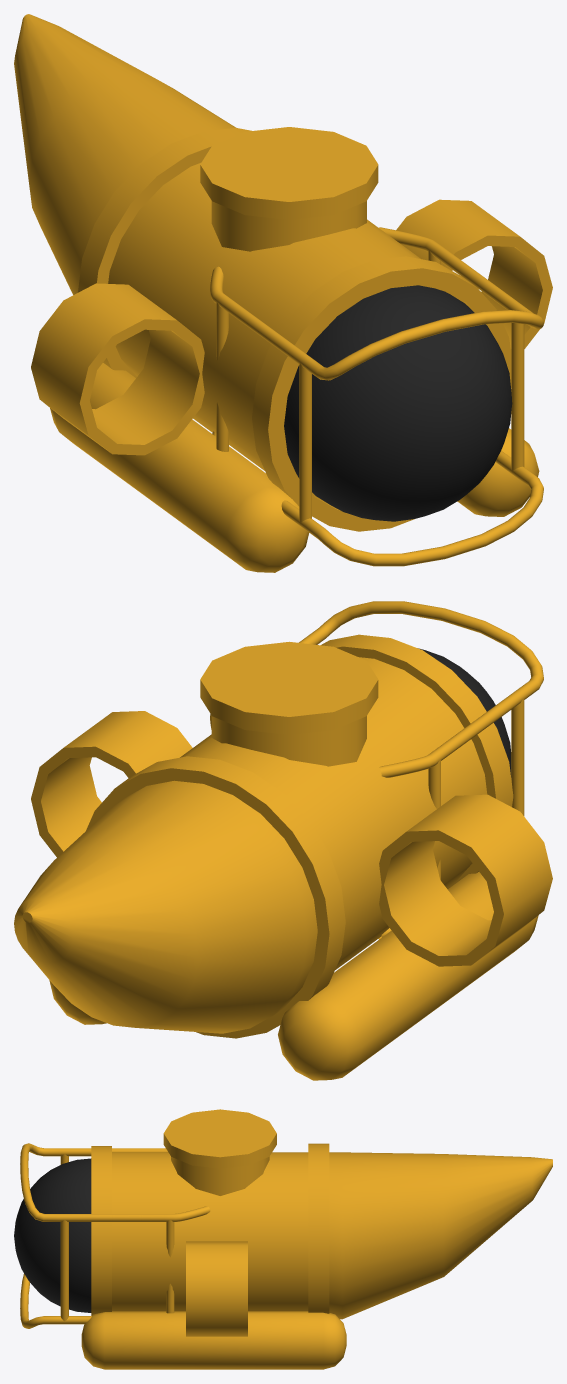
Rendered from submarine.glb.
3 views of the same model, one above another, from view 1: azimuth 30°, elevation 25°; view 2: azimuth 150°, elevation 25°; view 3: azimuth 270°, elevation 25° (orthographic). The views are drawn at different scales.
Parts seen in each view (by area): view 1: Cylinder, Cylinder.001, Cylinder.004, Cylinder.002, Cylinder.003, BézierCurve; view 2: Cylinder, Cylinder.004, Cylinder.002, Cylinder.003, BézierCurve, Cylinder.001; view 3: Cylinder, Cylinder.002, Cylinder.001, Cylinder.003, Cylinder.004, BézierCurve.
Boxes of the visible parts, x1,y1,x2,y2 form: Cylinder: (14,14,511,531); Cylinder.001: (284,285,512,521); Cylinder.004: (31,199,552,455); Cylinder.002: (50,363,539,572); Cylinder.003: (200,127,378,251); BézierCurve: (210,227,543,566); Cylinder: (14,634,513,1038); Cylinder.004: (31,711,552,966); Cylinder.002: (49,872,538,1080); Cylinder.003: (200,641,378,766); BézierCurve: (210,601,543,939); Cylinder.001: (418,648,511,777); Cylinder: (91,1143,552,1319); Cylinder.002: (81,1311,346,1369); Cylinder.001: (14,1158,91,1312); Cylinder.003: (163,1109,276,1195); Cylinder.004: (186,1241,247,1336); BézierCurve: (20,1143,210,1328).
Size of the model in its own units: 4.15 by 2.61 by 6.43.
